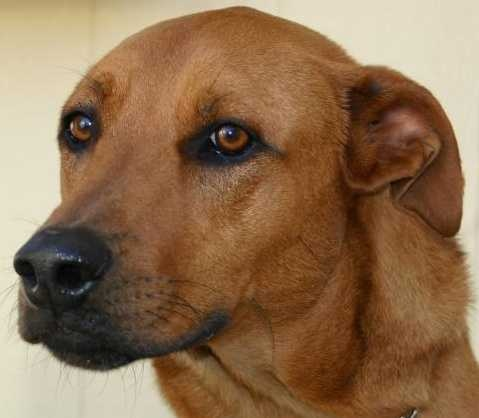Dog: (19, 7, 478, 407)
